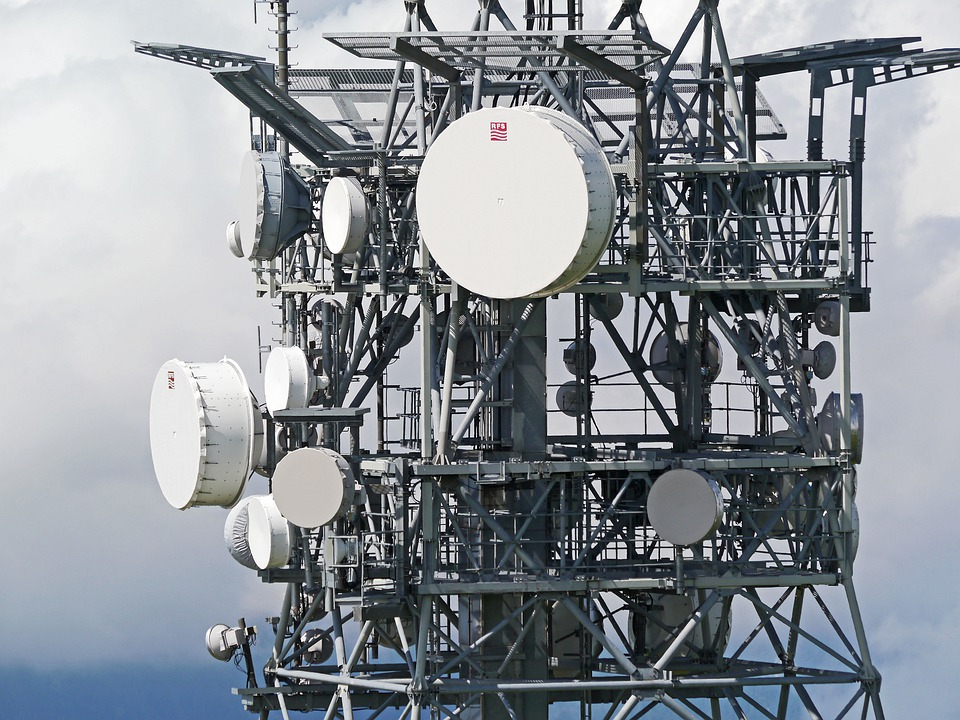b: (415, 105, 614, 301), (147, 358, 255, 508), (269, 448, 355, 531), (234, 153, 300, 261), (642, 469, 727, 552), (319, 174, 368, 252), (264, 346, 310, 418), (247, 501, 290, 574), (813, 343, 836, 381)
